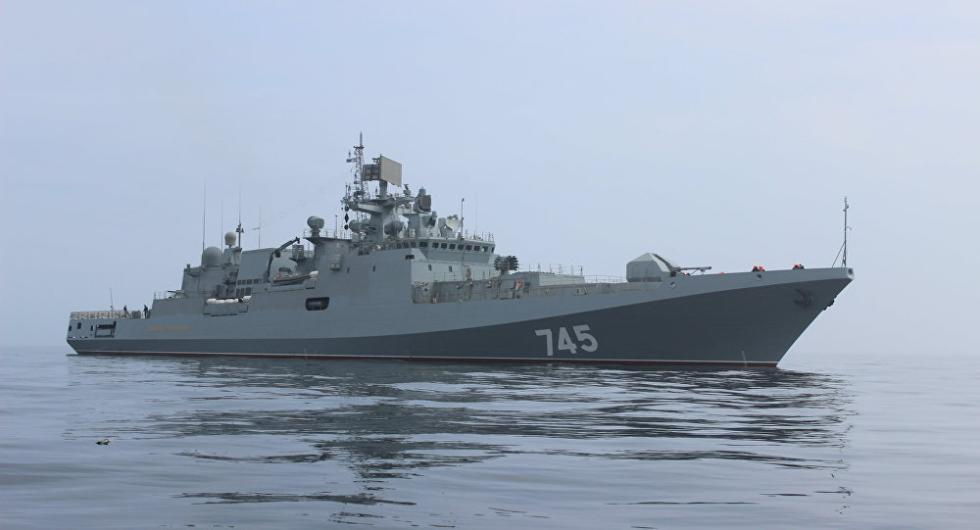warship: (63, 136, 862, 365)
